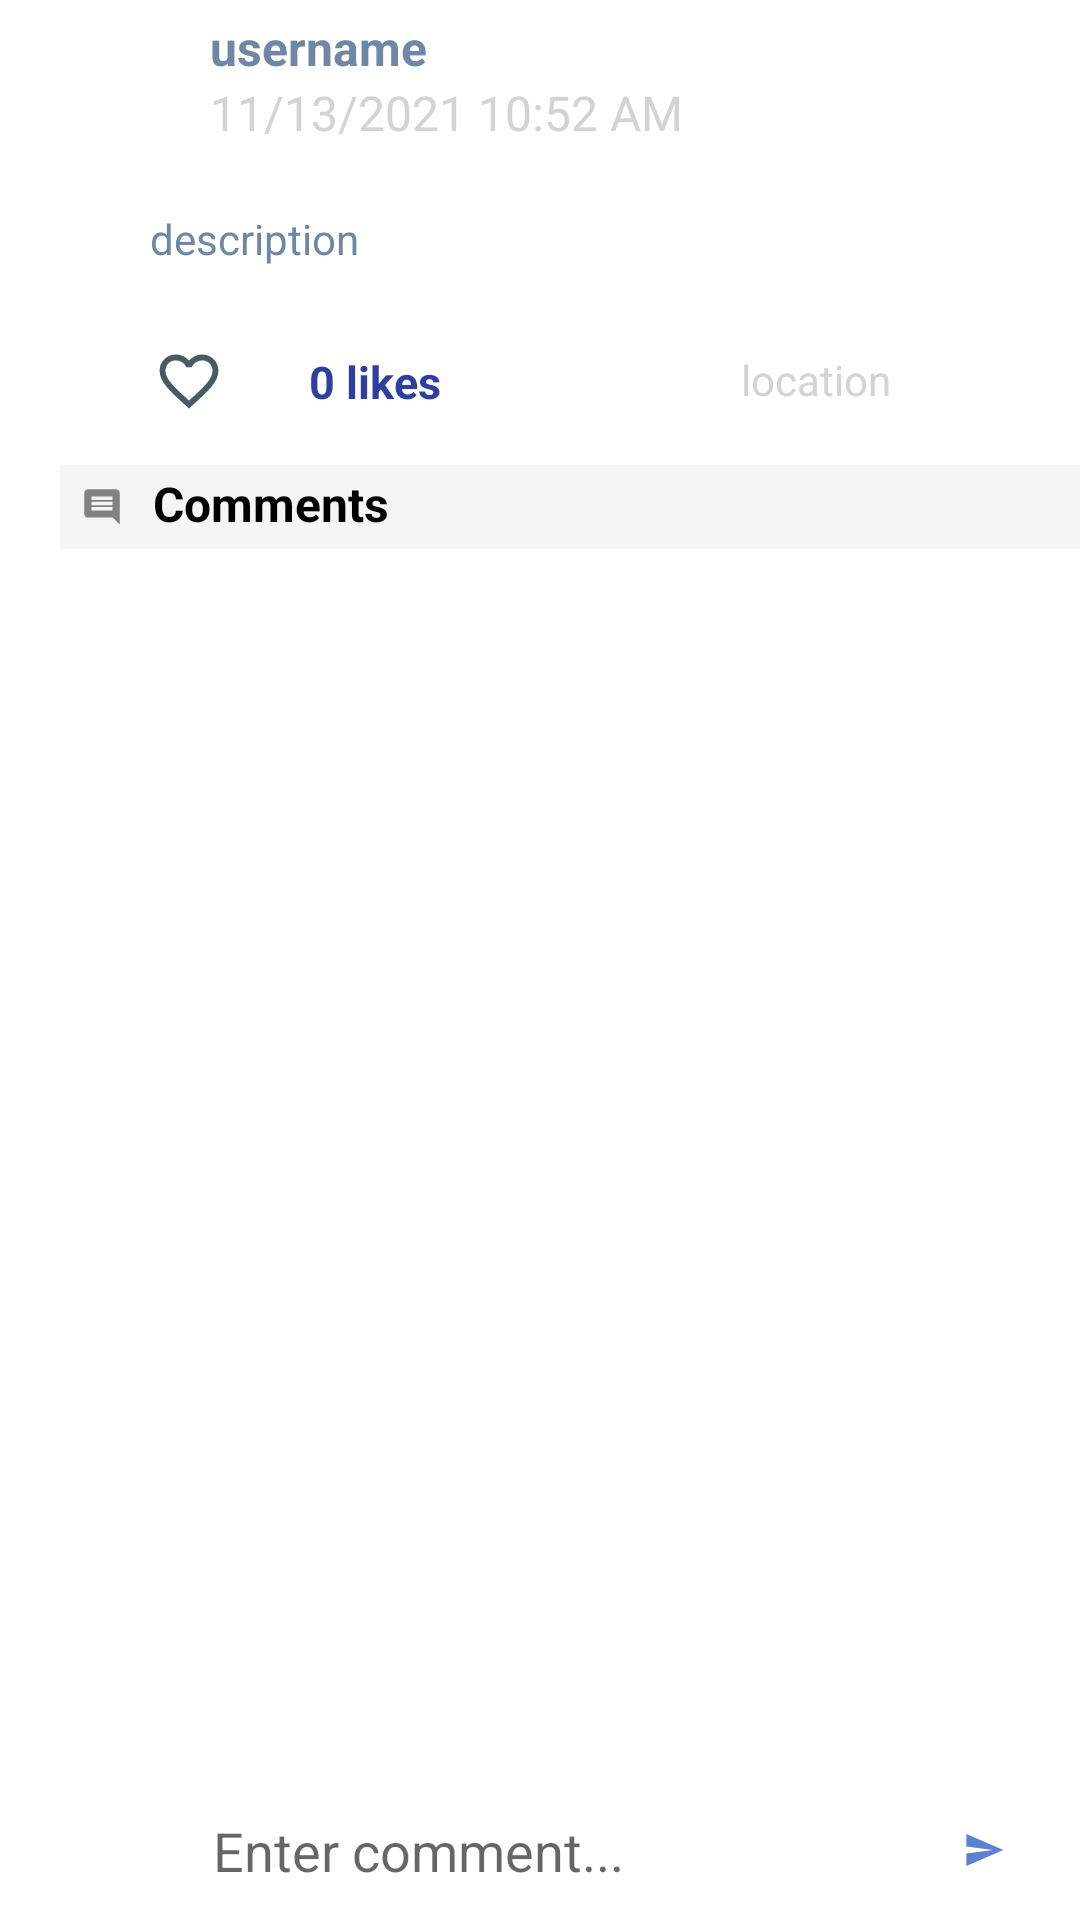

Locate icon controls on the screen. Image size 1080 x 1920, boxes as bbox=(x1, y1, x2, y2).
send: bbox=(966, 1834, 1003, 1866)
